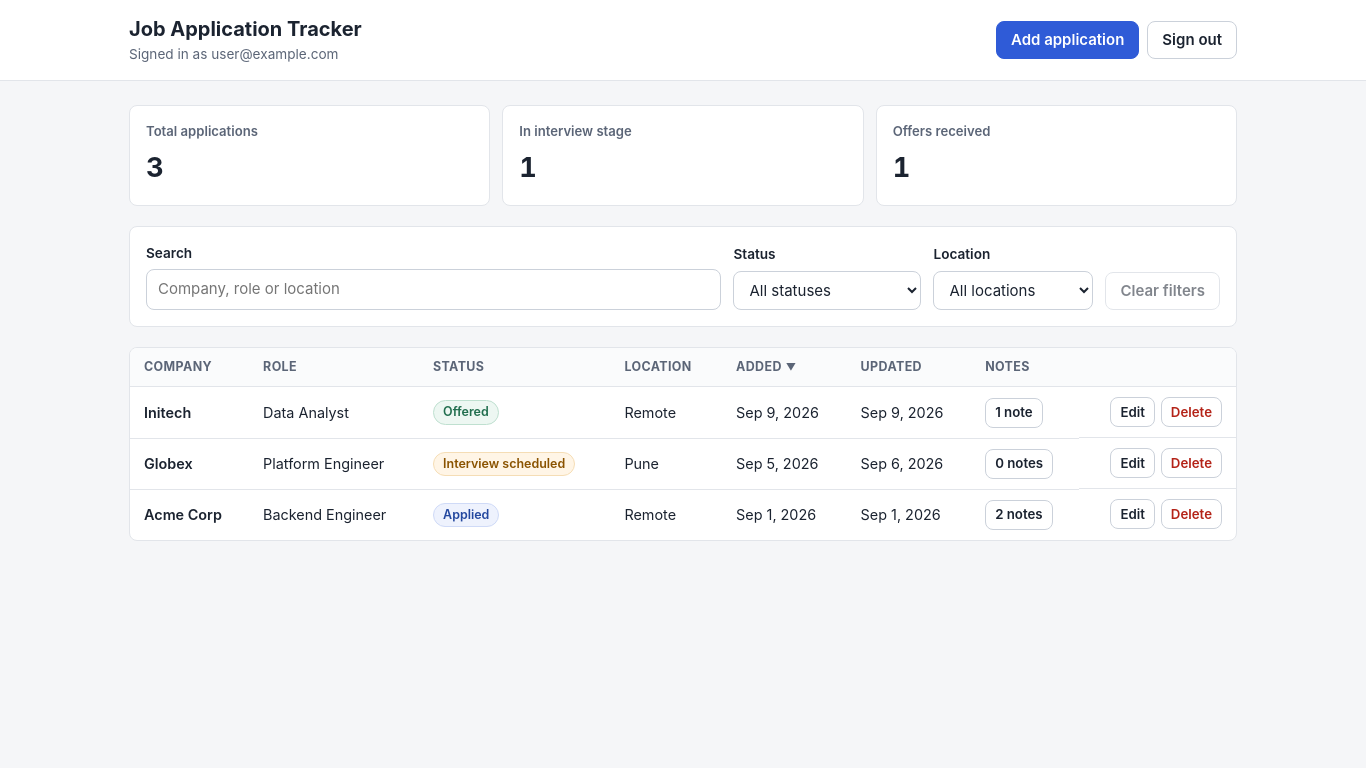
it: Dashboard › shows backend validation errors on the matching field
Expected: the cell "Acme Corp" is shown, [130, 490, 249, 540]
Click the button "Add application": (1068, 40) [996, 21, 1139, 59]
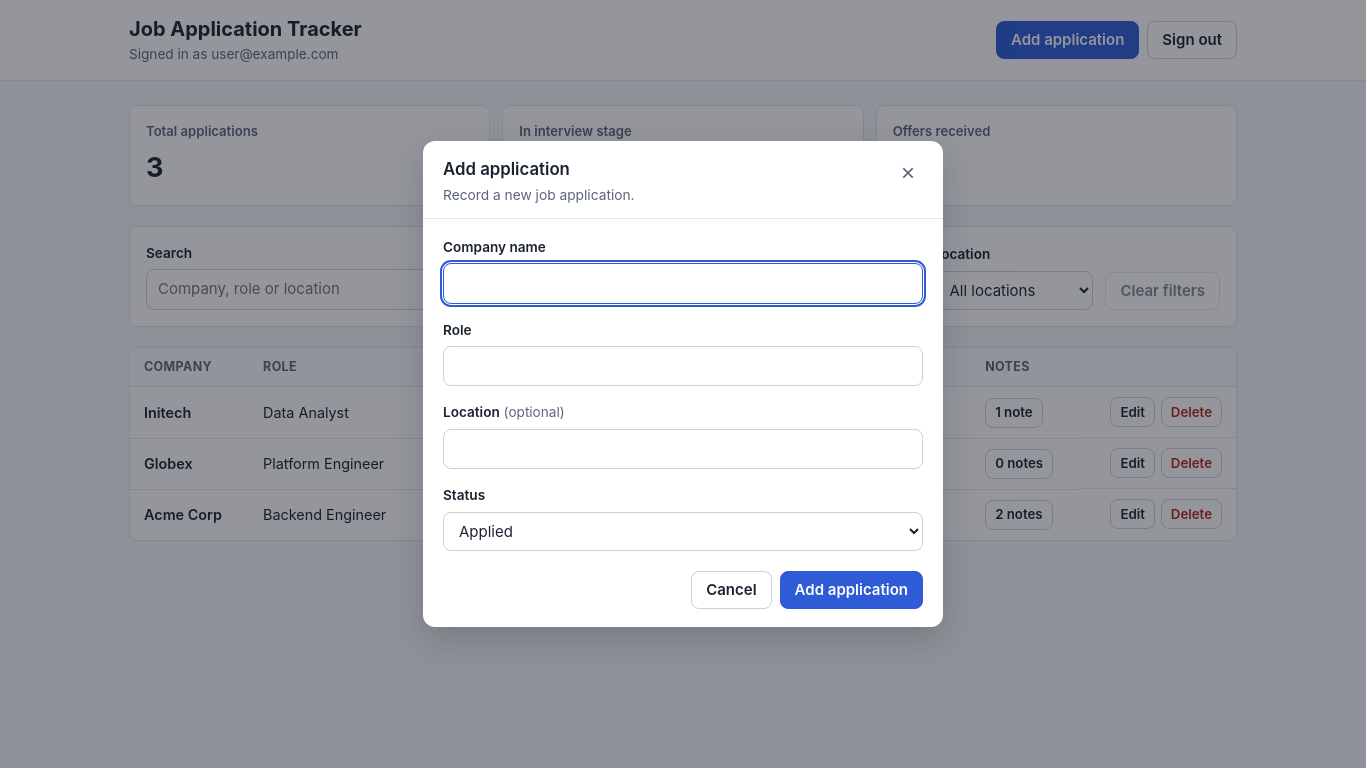
In the field labelled "Company name": (683, 283) [443, 263, 923, 304], type "Umbrella"
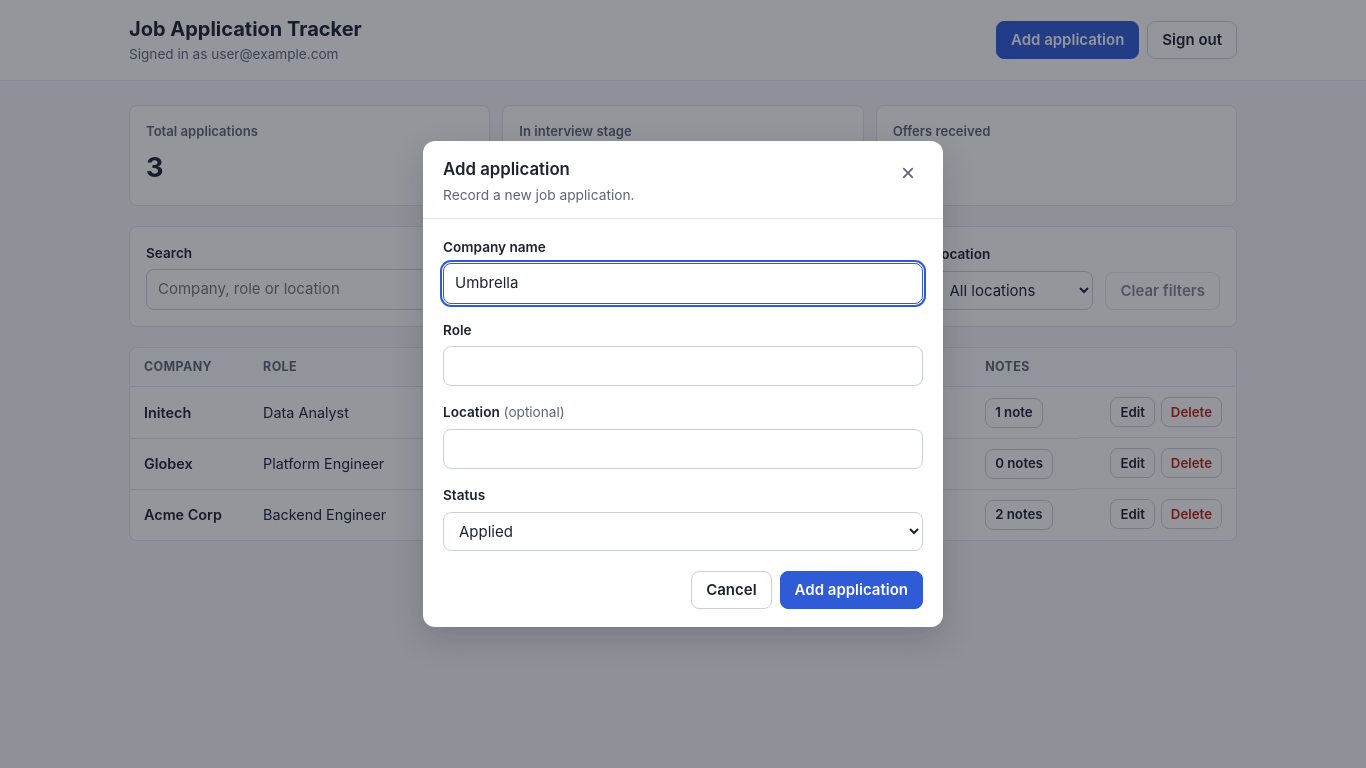
In the field labelled "Role": (683, 366) [443, 346, 923, 386], type "SRE"
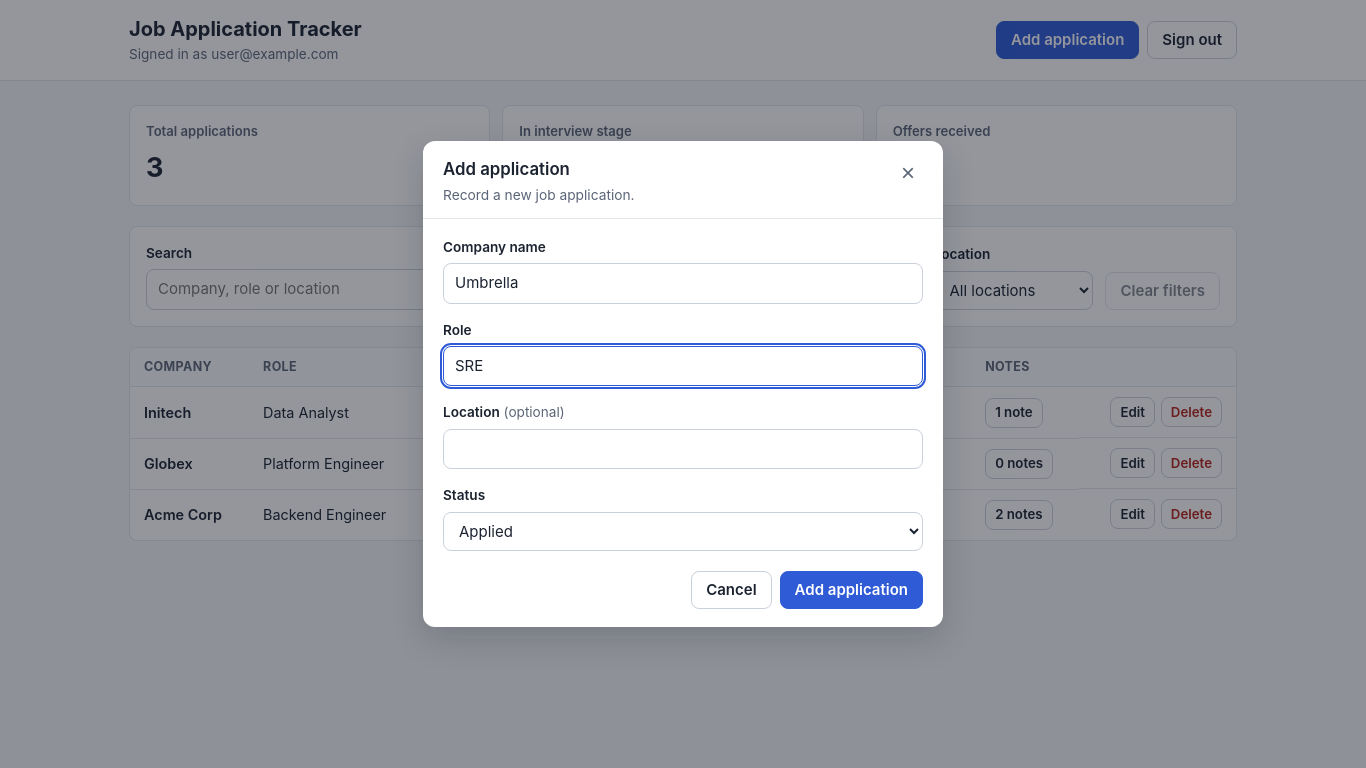
Click the button "Add application": (851, 590) [780, 571, 923, 609]
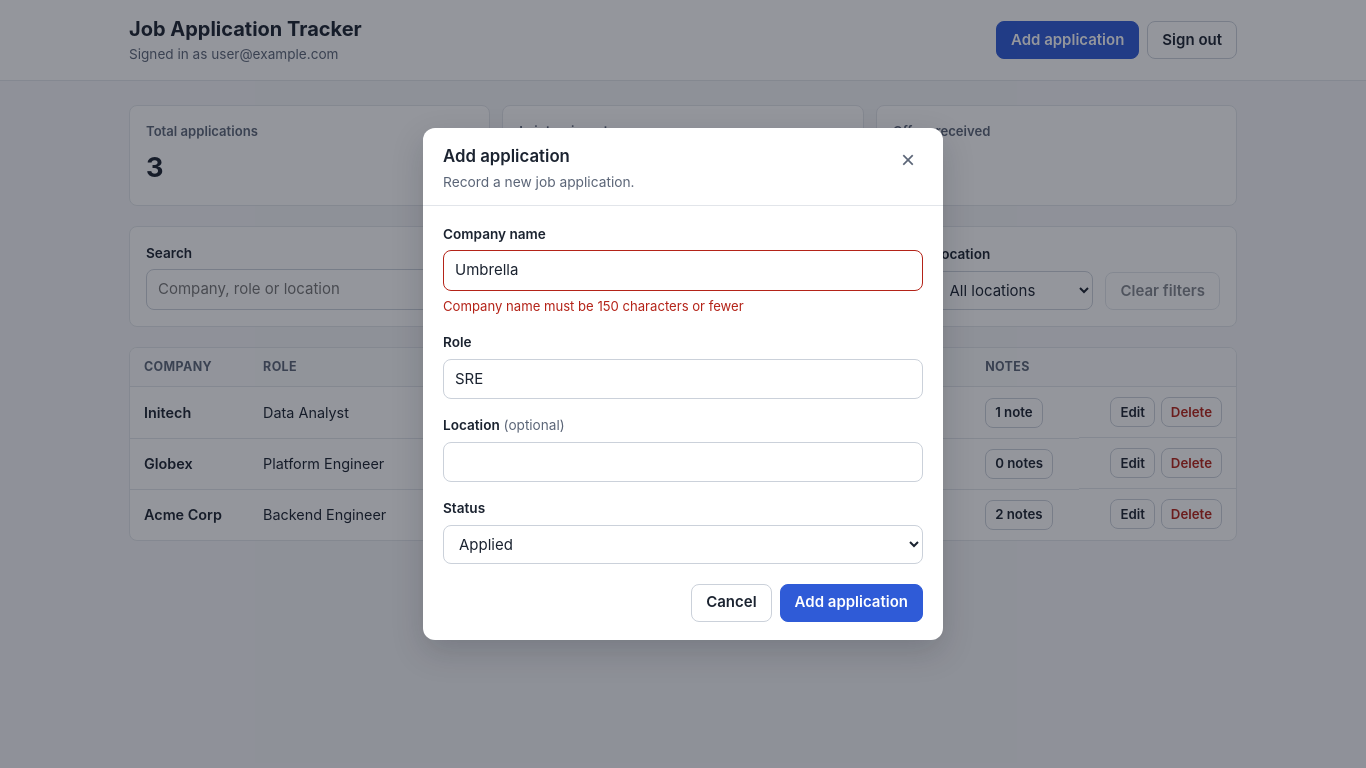
Result: the text "Company name must be 150 characters or fewer" is shown at [443, 298, 744, 314]
